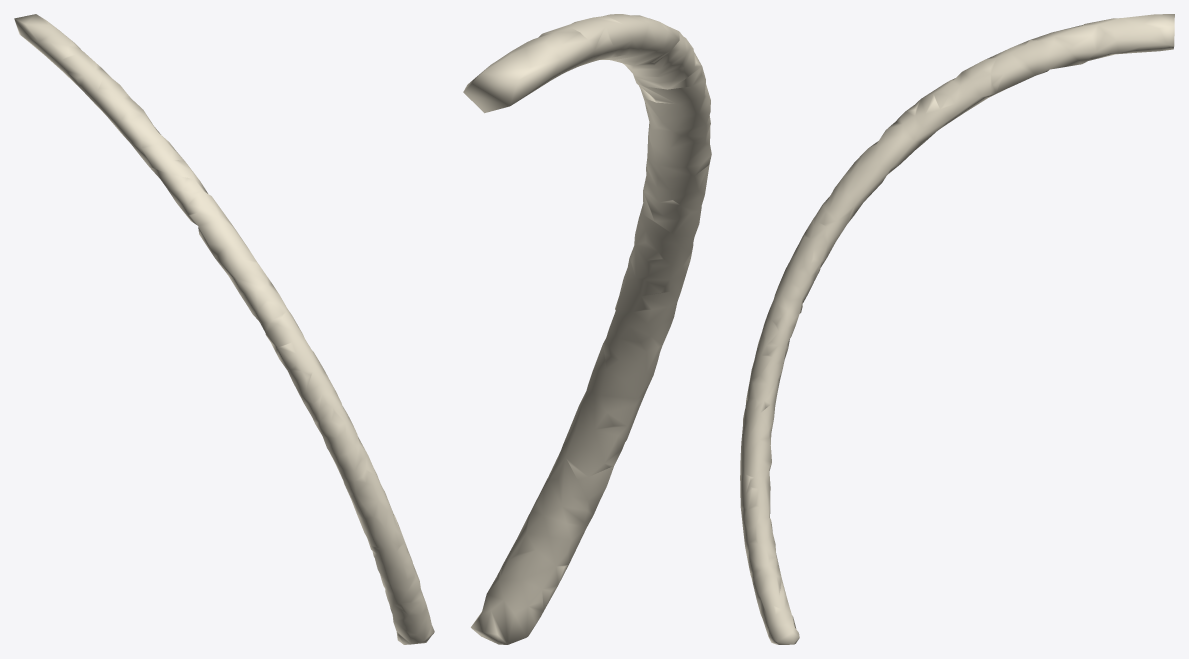
The model's file is rib_13_l.glb.
3 views of the same model, side by side, from view 1: azimuth 30°, elevation 25°; view 2: azimuth 150°, elevation 25°; view 3: azimuth 270°, elevation 25° (orthographic). The views are drawn at different scales.
Visible parts, largest first — view 1: geometry_0; view 2: geometry_0; view 3: geometry_0.
Part boxes in pixels (<box>): geometry_0: <box>14,14,434,644</box>; geometry_0: <box>463,14,711,644</box>; geometry_0: <box>740,14,1174,644</box>.
Size of the model in its own units: 0.2213 by 0.5031 by 0.3753.
